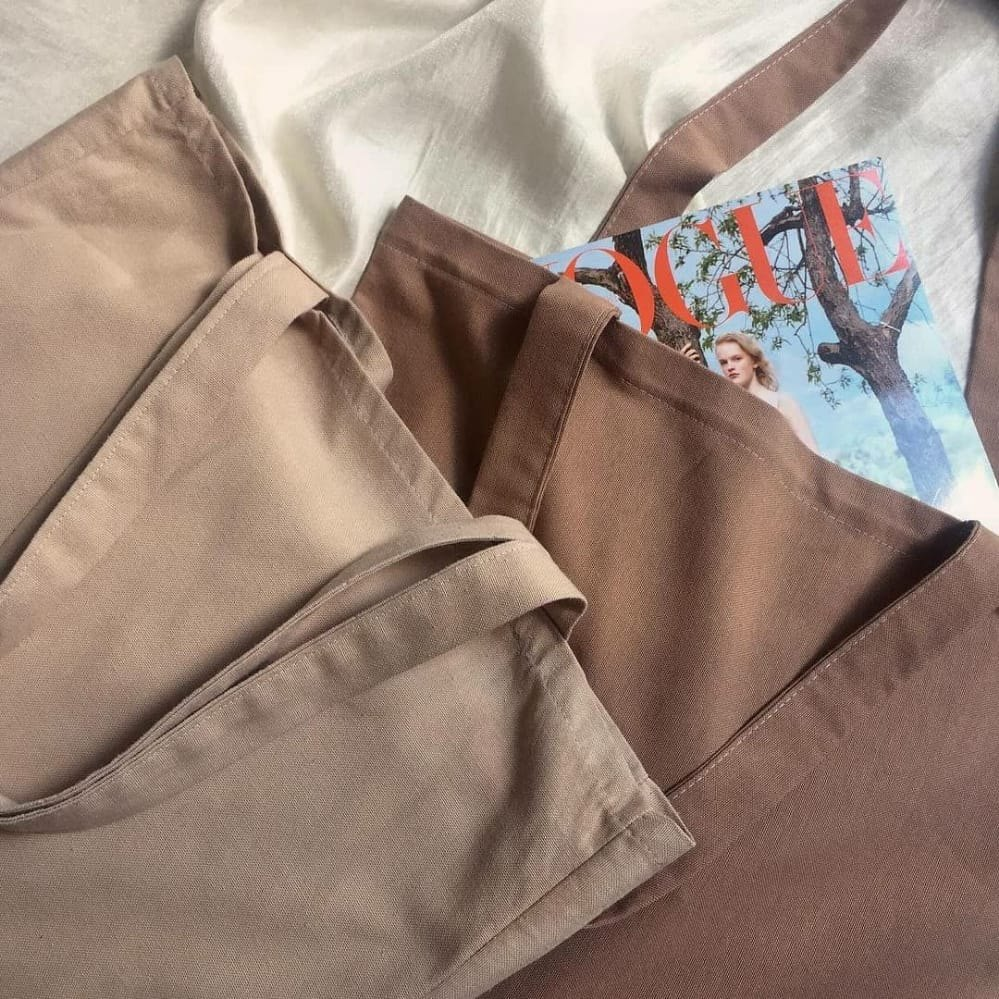clothbag: (2, 1, 999, 996)
